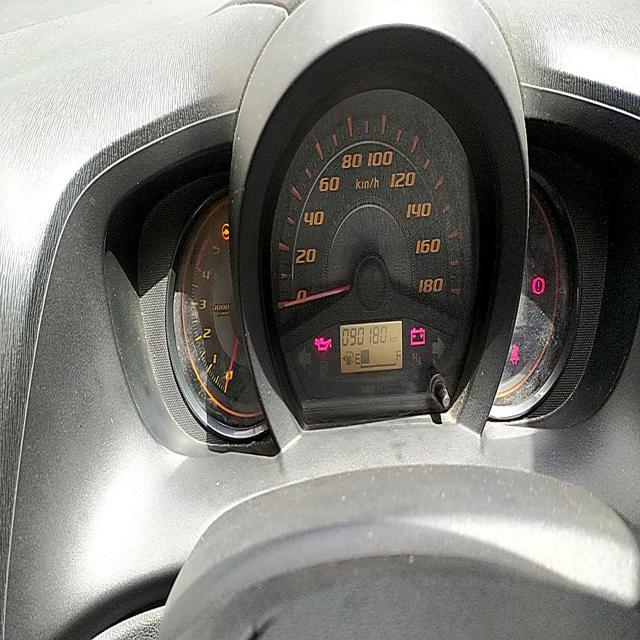odometer: (340, 322, 388, 348)
